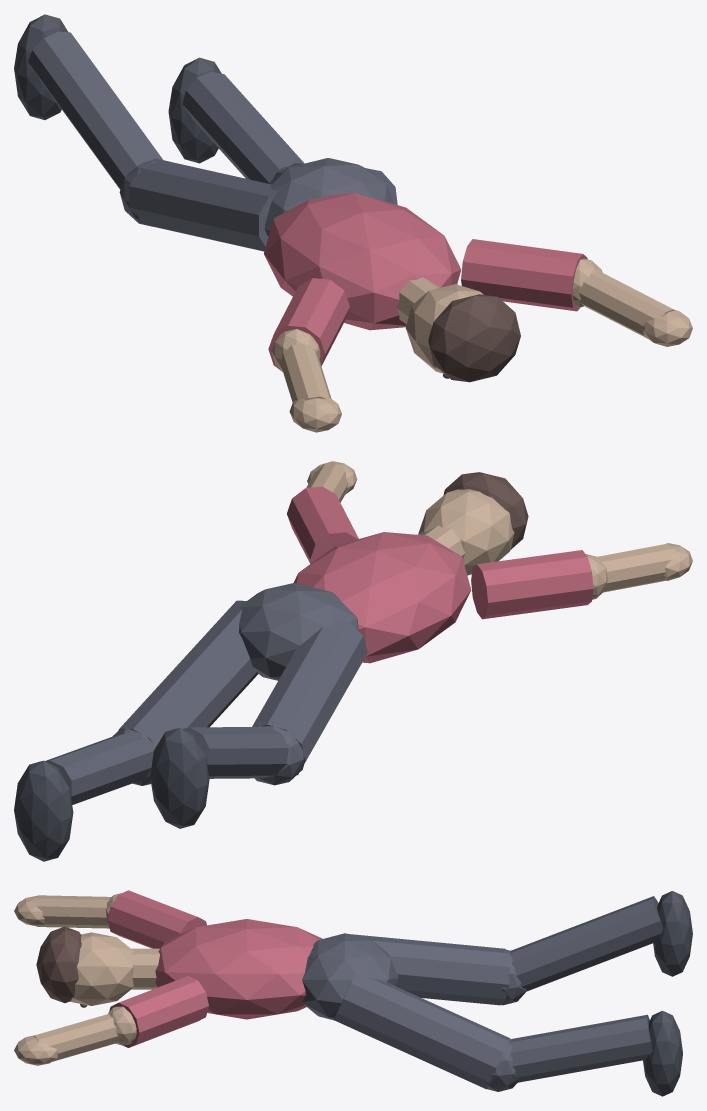
3 views of the same model, one above another, from view 1: azimuth 30°, elevation 25°; view 2: azimuth 150°, elevation 25°; view 3: azimuth 270°, elevation 25° (orthographic). The views are drawn at different scales.
Visible parts, largest first — view 1: world; view 2: world; view 3: world.
Part boxes in pixels (<box>): world: <box>14,14,692,432</box>; world: <box>14,461,692,861</box>; world: <box>14,890,692,1096</box>.
Bounding box in the file's own units: 1.17 × 0.5125 × 2.14.
